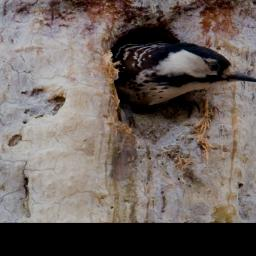Woodpecker: (116, 36, 256, 109)
